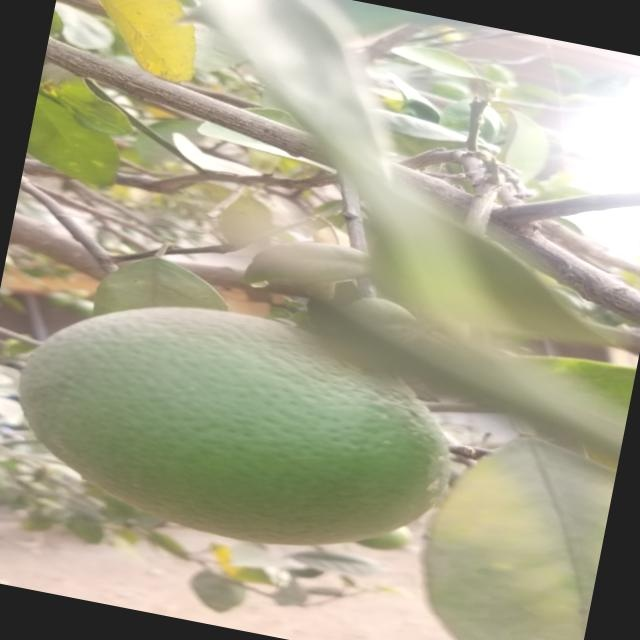agrume: (0, 282, 473, 572)
